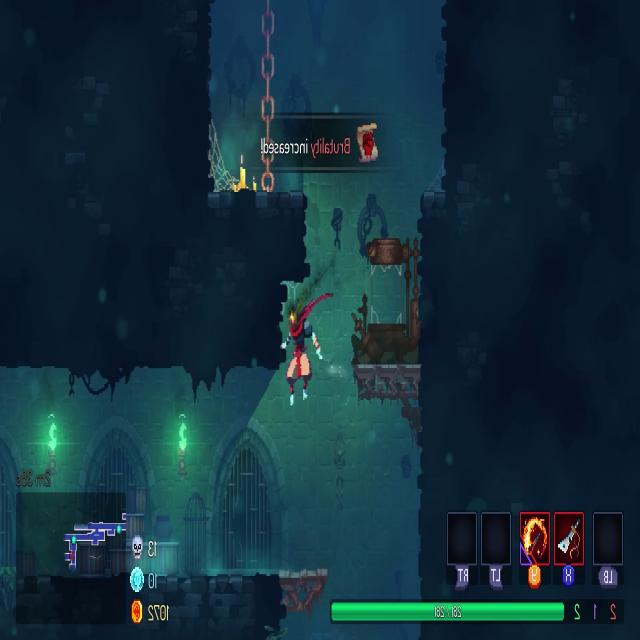agents: (280, 310, 322, 407)
wood_floor: (353, 360, 421, 404), (279, 568, 330, 618)
